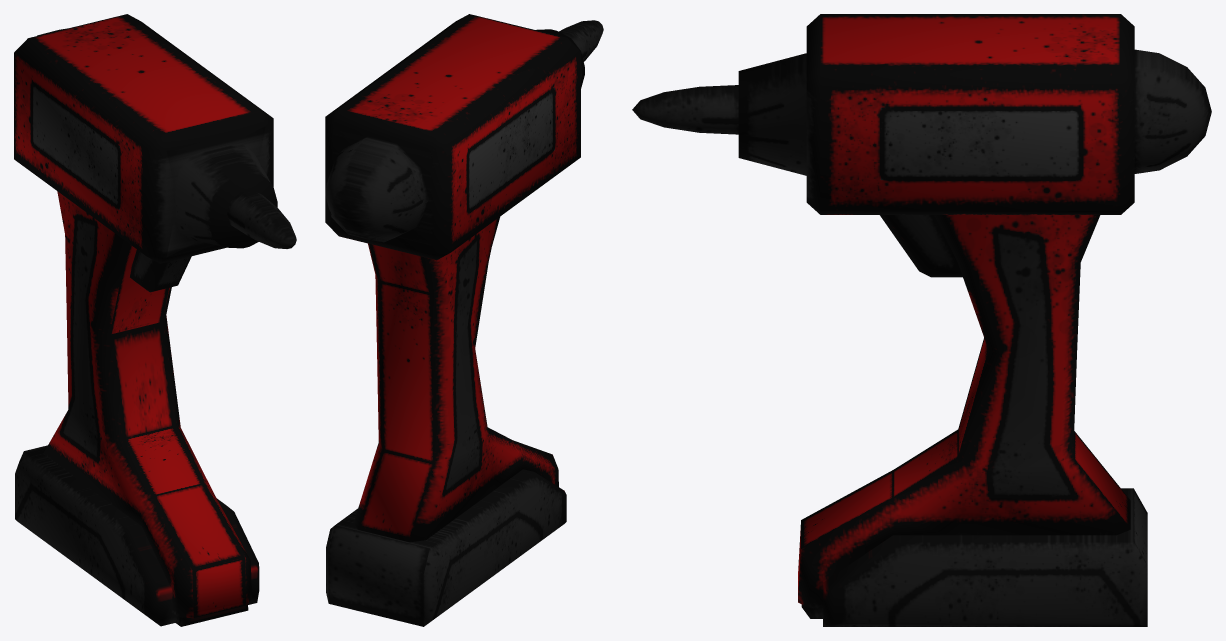
Rendered from driller.obj.
3 views of the same model, side by side, from view 1: azimuth 30°, elevation 25°; view 2: azimuth 150°, elevation 25°; view 3: azimuth 270°, elevation 25° (orthographic). The views are drawn at different scales.
Parts seen in each view (by area): view 1: driller; view 2: driller; view 3: driller.
Boxes of the visible parts, x1,y1,x2,y2 form: driller: [14, 14, 296, 626]; driller: [325, 14, 603, 626]; driller: [632, 14, 1211, 626].
Bounding box in the file's own units: 1.2 × 4.42 × 4.16.
